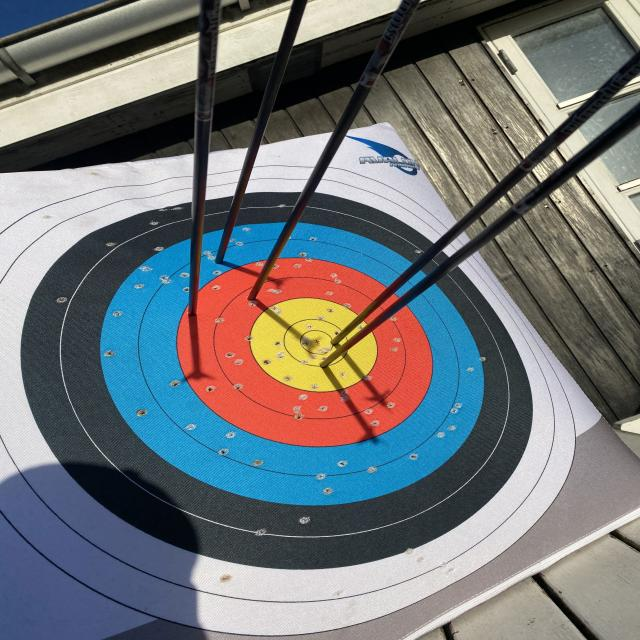Arrow_Blue: (197, 244, 243, 278)
Arrow_Red: (164, 296, 220, 343), (235, 286, 280, 317)
Arrow_Yellow: (311, 323, 359, 357), (310, 353, 348, 384)
